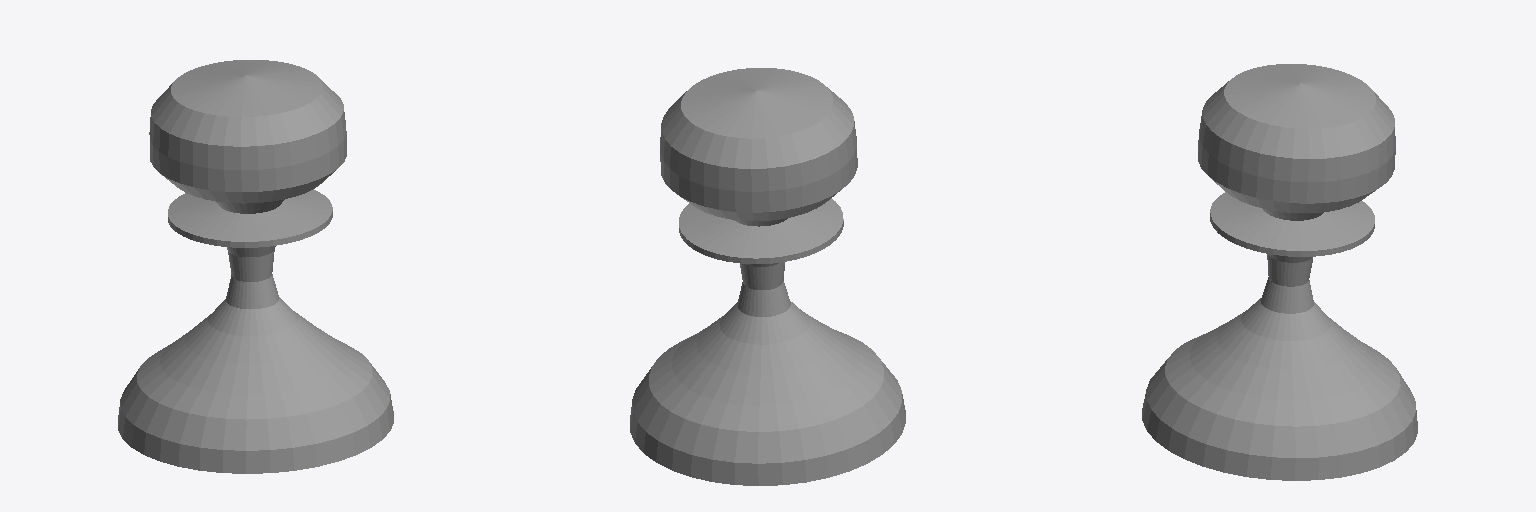
The model's file is whitepawn.obj.
3 renders of one model, left to right at view 1: azimuth 30°, elevation 25°; view 2: azimuth 150°, elevation 25°; view 3: azimuth 270°, elevation 25°, orthographic.
Visible parts, largest first — view 1: Pawn_Cube; view 2: Pawn_Cube; view 3: Pawn_Cube.
Boxes of the visible parts, x1=… form: Pawn_Cube: x1=118, y1=60, x2=393, y2=473; Pawn_Cube: x1=630, y1=68, x2=905, y2=485; Pawn_Cube: x1=1142, y1=64, x2=1417, y2=480.
Size of the model in its own units: 3.59 by 4.95 by 3.58.